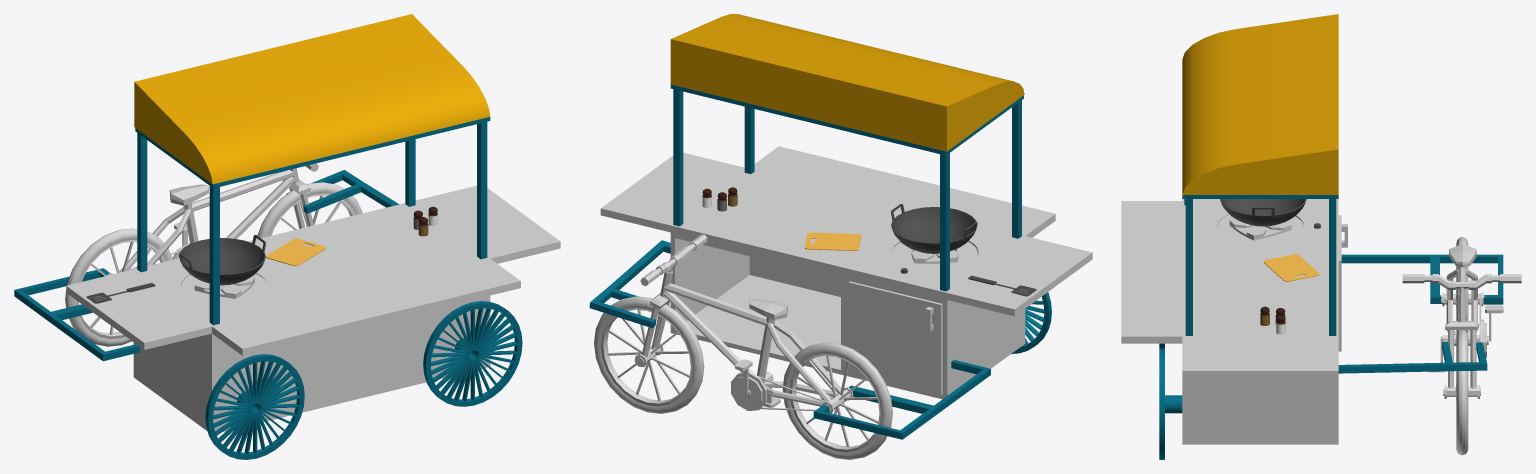
File: cart 1.fbx
The picture shows the model from 3 angles, left to right: view 1: azimuth 30°, elevation 25°; view 2: azimuth 150°, elevation 25°; view 3: azimuth 270°, elevation 25°; orthographic projection.
Visible parts, largest first — view 1: Circle.001, Cube.006; view 2: Circle.001, Cube.006; view 3: Circle.001, Cube.006.
Boxes of the visible parts, bbox=[...] form: Circle.001: bbox=[14, 14, 560, 459]; Cube.006: bbox=[266, 238, 325, 266]; Circle.001: bbox=[589, 14, 1092, 459]; Cube.006: bbox=[804, 232, 861, 250]; Circle.001: bbox=[1121, 14, 1521, 459]; Cube.006: bbox=[1263, 254, 1319, 281].
Bounding box in the file's own units: 861 × 633 × 719.
